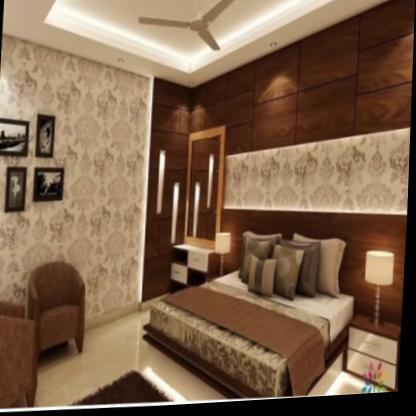Bed: (148, 225, 356, 403)
Chair: (18, 253, 93, 366)
Frame: (30, 161, 68, 207), (32, 108, 58, 163), (4, 163, 30, 215)
Lamp: (361, 245, 400, 335)
Nightstand: (344, 316, 404, 398)
